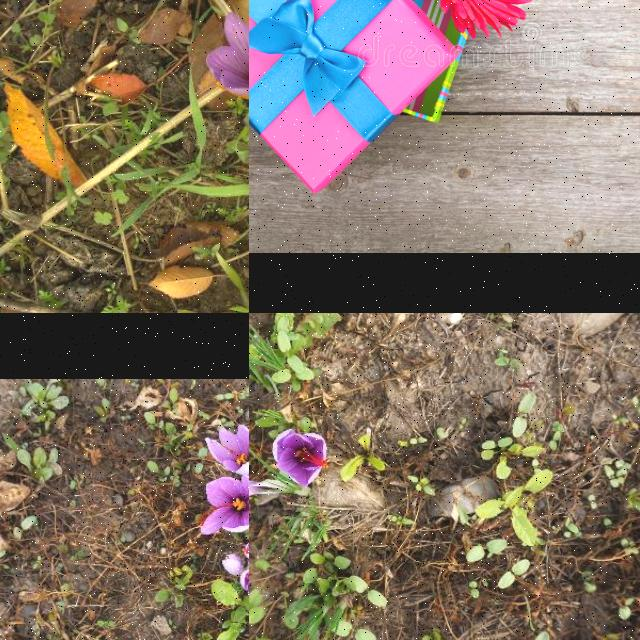flower: (204, 8, 249, 98), (272, 428, 328, 489), (200, 476, 249, 533), (204, 425, 249, 476), (222, 554, 246, 576), (249, 478, 271, 501), (240, 569, 249, 606)
